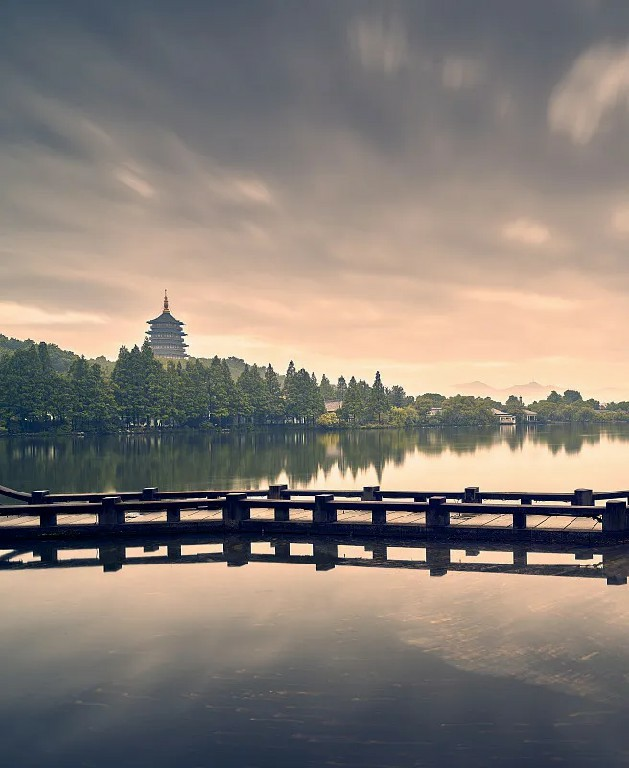Leifeng: (142, 289, 188, 365)
